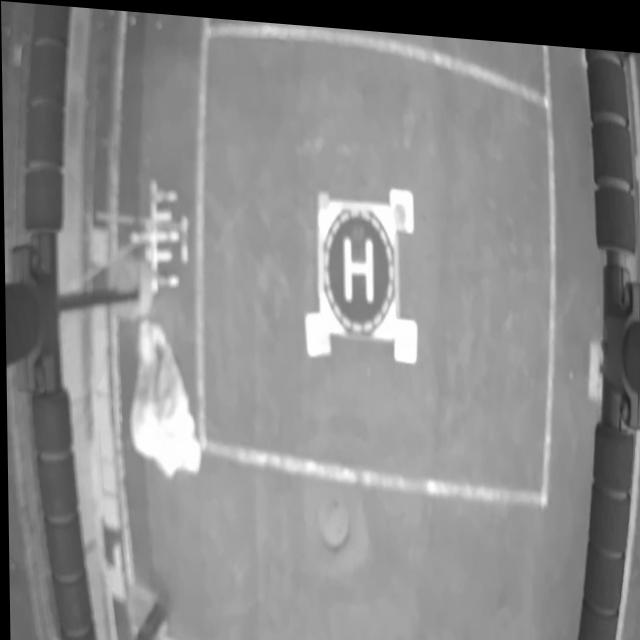Helipad: (340, 229, 372, 298)
